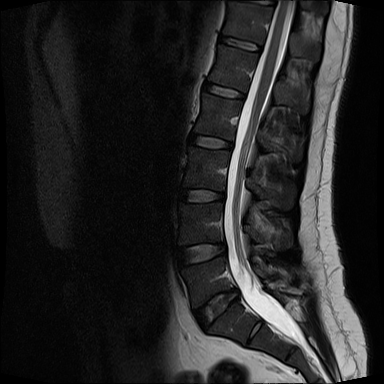Normal IVD: (187, 281, 241, 337), (171, 241, 231, 269), (171, 181, 228, 208), (185, 127, 236, 156), (199, 77, 249, 104), (213, 32, 264, 55)
